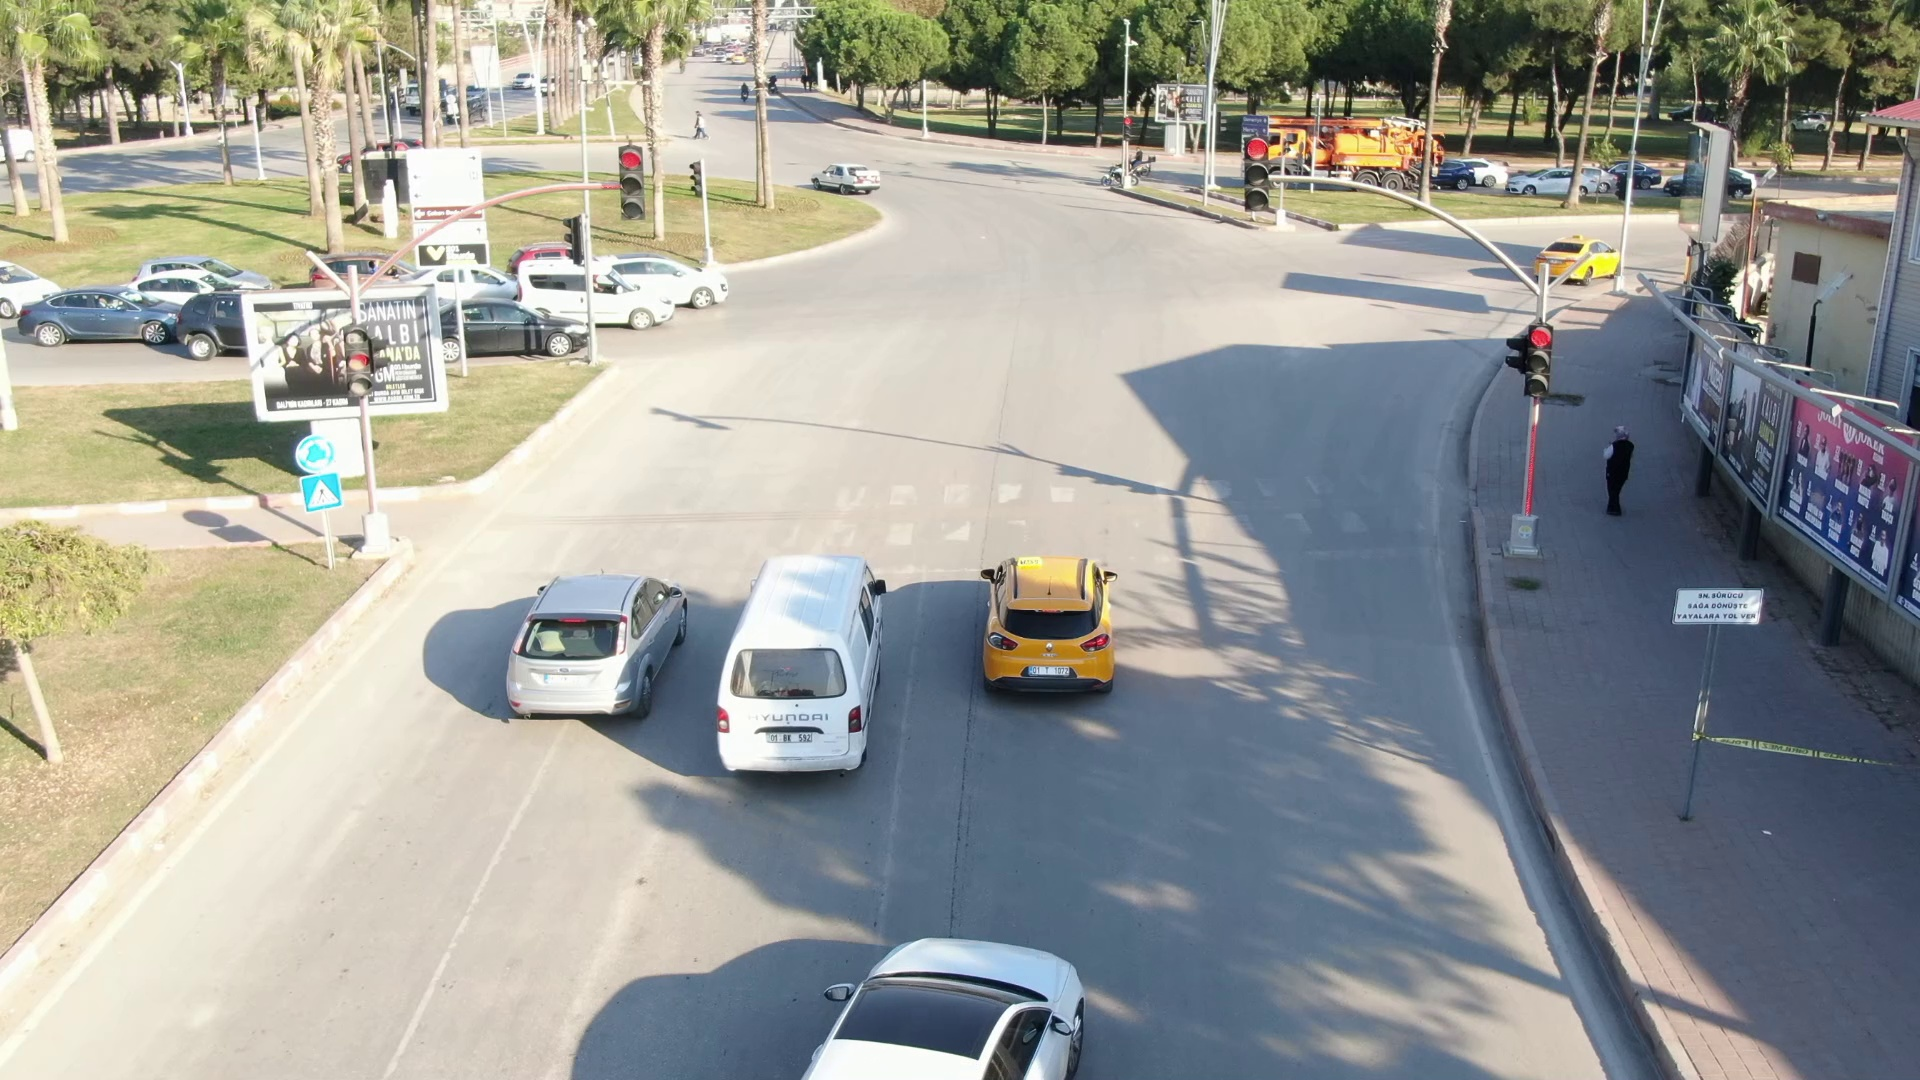car: (714, 547, 886, 782), (496, 557, 692, 727), (968, 547, 1133, 702), (508, 255, 676, 329), (439, 300, 592, 353), (608, 245, 731, 306), (1533, 231, 1631, 282), (810, 157, 884, 200)
person: (1598, 425, 1645, 523)
